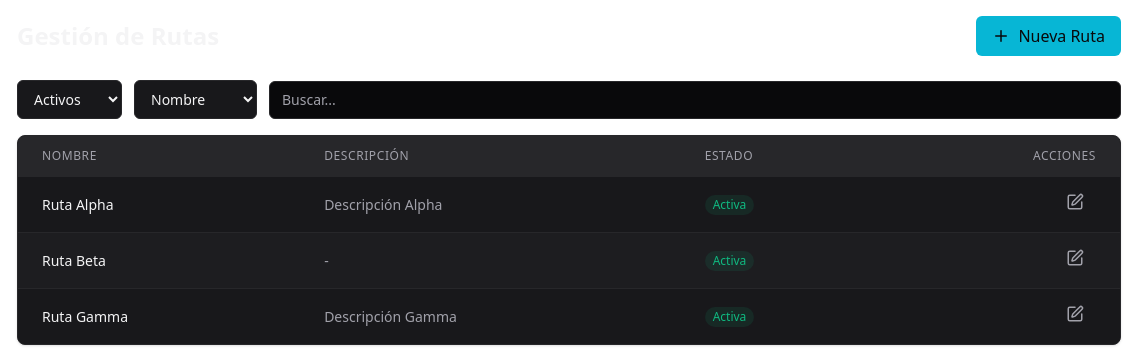
RutasPage › switching to inactivos shows only inactivos
The width and height of the screenshot is (1138, 363).
Expected: the text "Ruta Alpha" is shown, 18,176 -> 300,232
Select "Inactivos" in the 1st dropdown at {"x": 70, "y": 100}, box 17,80 -> 122,119
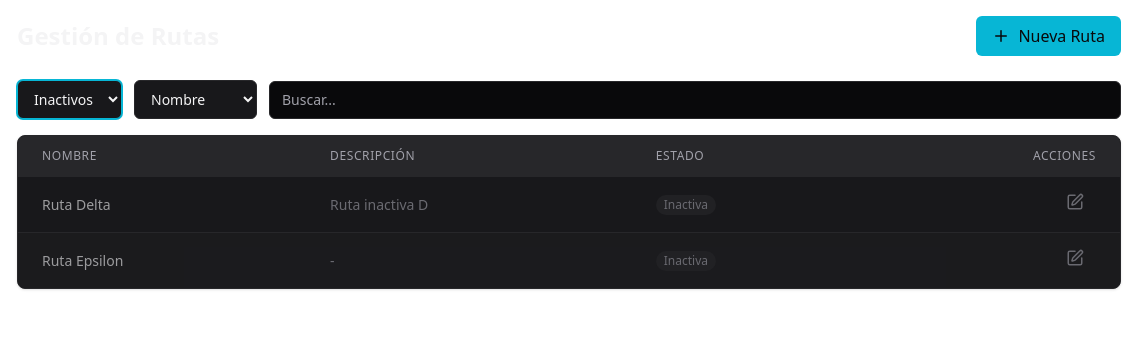
Expected: the text "Ruta Delta" is shown, 18,176 -> 306,232
Expected: the text "Ruta Epsilon" is shown, 18,232 -> 306,288
Expected: the text "Ruta Alpha" is gone
